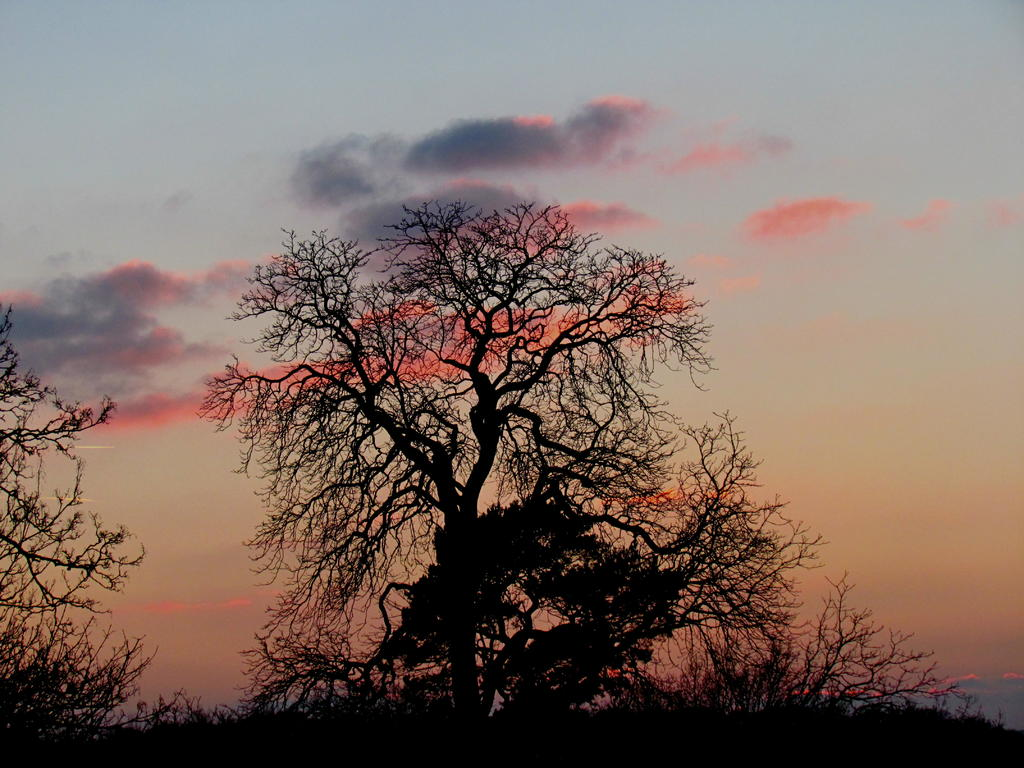Tree: (183, 189, 828, 767), (375, 487, 691, 759), (0, 304, 187, 758), (624, 574, 1023, 766)
